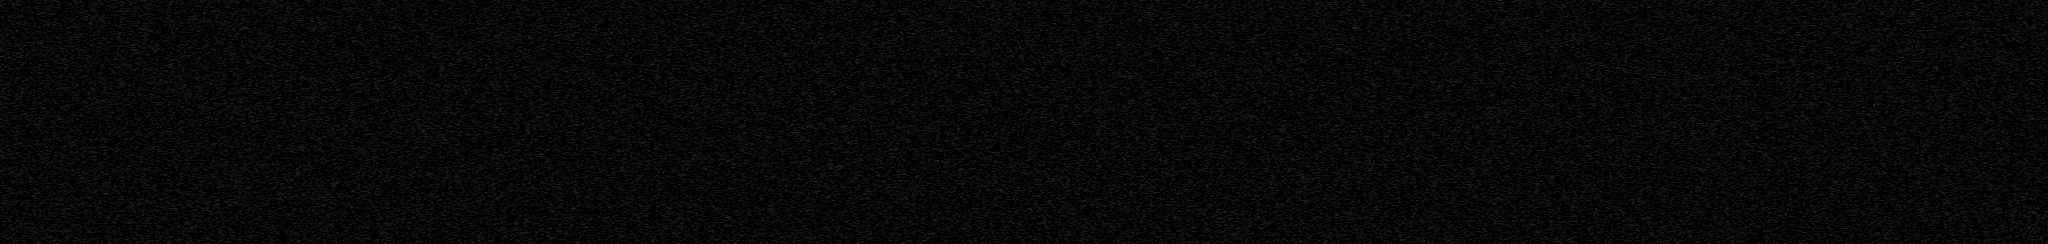wv_am: (1859, 0, 1864, 244), (699, 0, 704, 244), (609, 0, 613, 244)
wv_cw: (1565, 0, 1571, 244), (1671, 0, 1676, 244)
wv_wbfm: (980, 104, 1155, 244), (1054, 0, 1098, 63), (1093, 0, 1135, 27), (1017, 34, 1055, 63), (1016, 3, 1059, 27), (1096, 34, 1132, 63), (1058, 80, 1092, 104), (1097, 80, 1130, 104), (1019, 80, 1051, 104), (1054, 64, 1093, 80), (1096, 64, 1131, 80), (1020, 64, 1053, 80), (1113, 210, 1156, 218), (1102, 27, 1123, 34), (1025, 27, 1045, 34), (1029, 0, 1057, 4), (994, 98, 1004, 104), (1155, 93, 1166, 98), (998, 93, 1010, 98), (1149, 98, 1159, 104), (991, 20, 1002, 25), (1145, 181, 1159, 185), (998, 47, 1011, 51), (1145, 20, 1159, 23), (1145, 14, 1159, 18), (989, 14, 1002, 18), (987, 27, 997, 33), (1155, 47, 1166, 51), (1144, 27, 1152, 33), (1151, 87, 1160, 91), (995, 87, 1004, 91), (1147, 73, 1157, 76), (991, 73, 1002, 76), (1149, 157, 1159, 159), (1145, 145, 1155, 147), (1159, 236, 1165, 239), (1155, 44, 1160, 47), (1152, 167, 1157, 170), (1155, 9, 1160, 12), (999, 9, 1004, 12), (1166, 144, 1172, 146)
